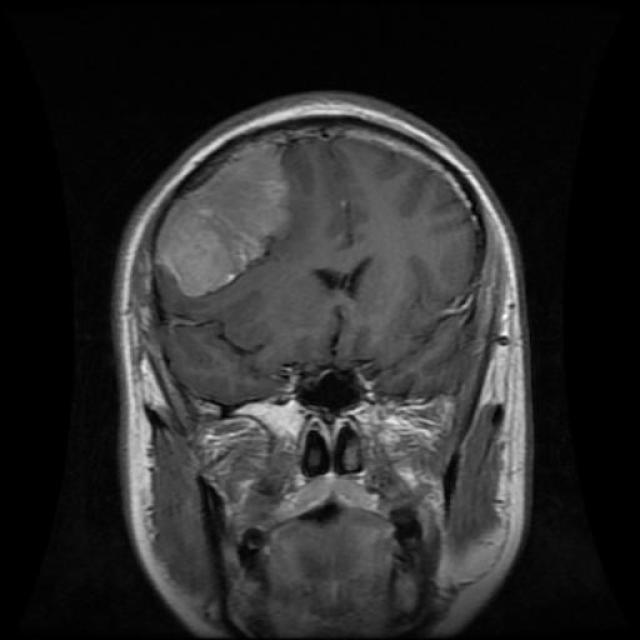meningioma: (156, 146, 290, 298)
